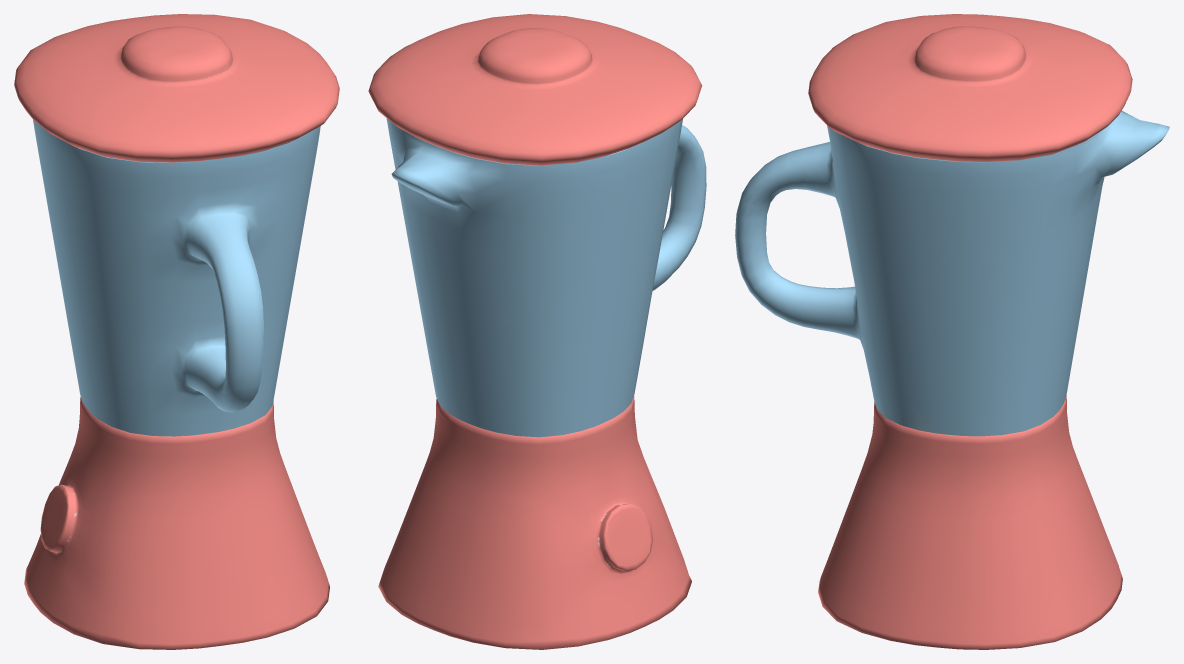
File: Licuadora.fbx
The picture shows the model from 3 angles, left to right: view 1: azimuth 30°, elevation 25°; view 2: azimuth 150°, elevation 25°; view 3: azimuth 270°, elevation 25°; orthographic projection.
Parts seen in each view (by area): view 1: Cylinder.001, Cylinder.002, Cylinder.003; view 2: Cylinder.001, Cylinder.002, Cylinder.003; view 3: Cylinder.001, Cylinder.002, Cylinder.003.
Part boxes in pixels (x1,y1,x2,y2): Cylinder.001: (33,120,320,436); Cylinder.002: (24,397,329,649); Cylinder.003: (14,14,339,162); Cylinder.001: (386,118,706,437); Cylinder.002: (378,396,691,649); Cylinder.003: (368,14,702,165); Cylinder.001: (735,111,1169,436); Cylinder.002: (818,395,1122,649); Cylinder.003: (808,14,1132,161).
Size of the model in its own units: 214 by 396 by 287.
